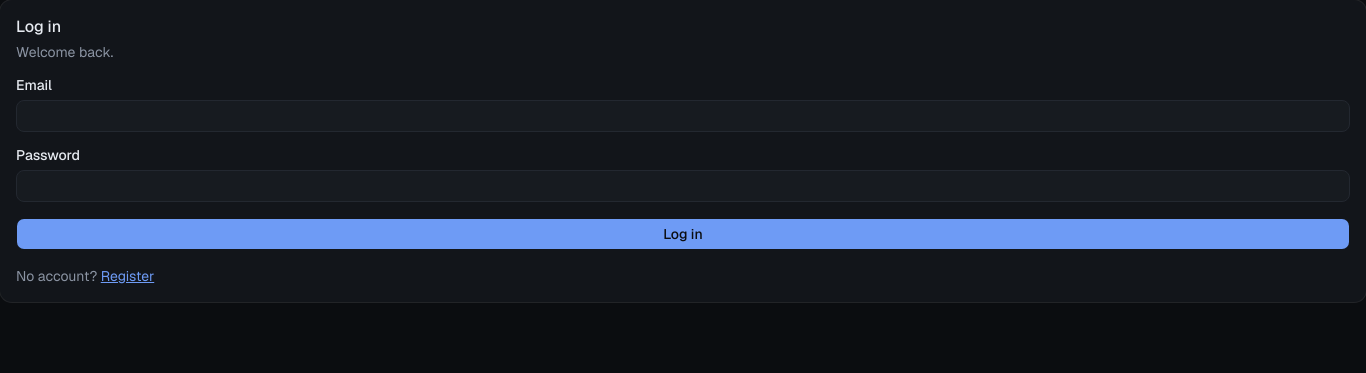
Scenario: LoginPage › shows required-field errors on empty submit
Step 1. Click the button "Log in" → coordinates (683, 234), box [16,218,1350,250]
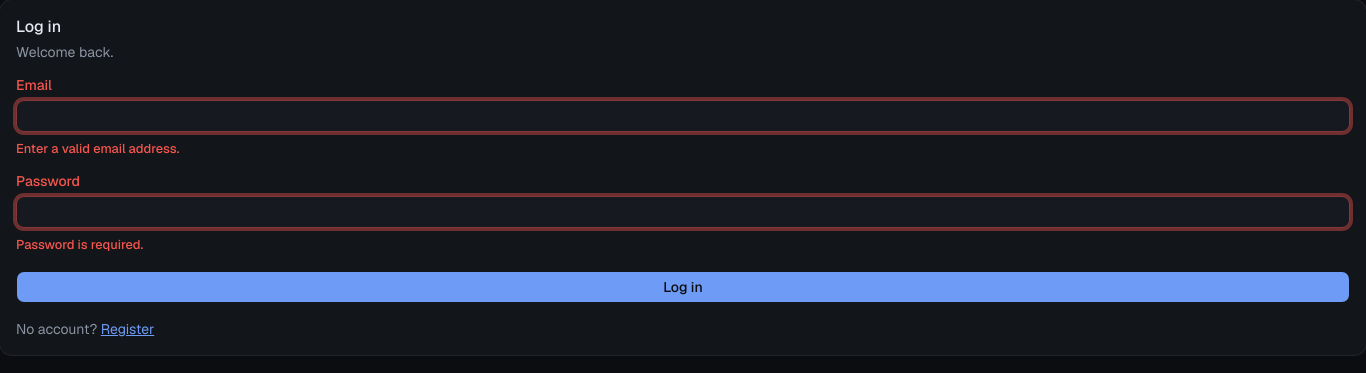
Result: the text "Enter a valid email address." is shown at [16,140,179,157]
Result: the text "Password is required." is shown at [16,236,143,253]
